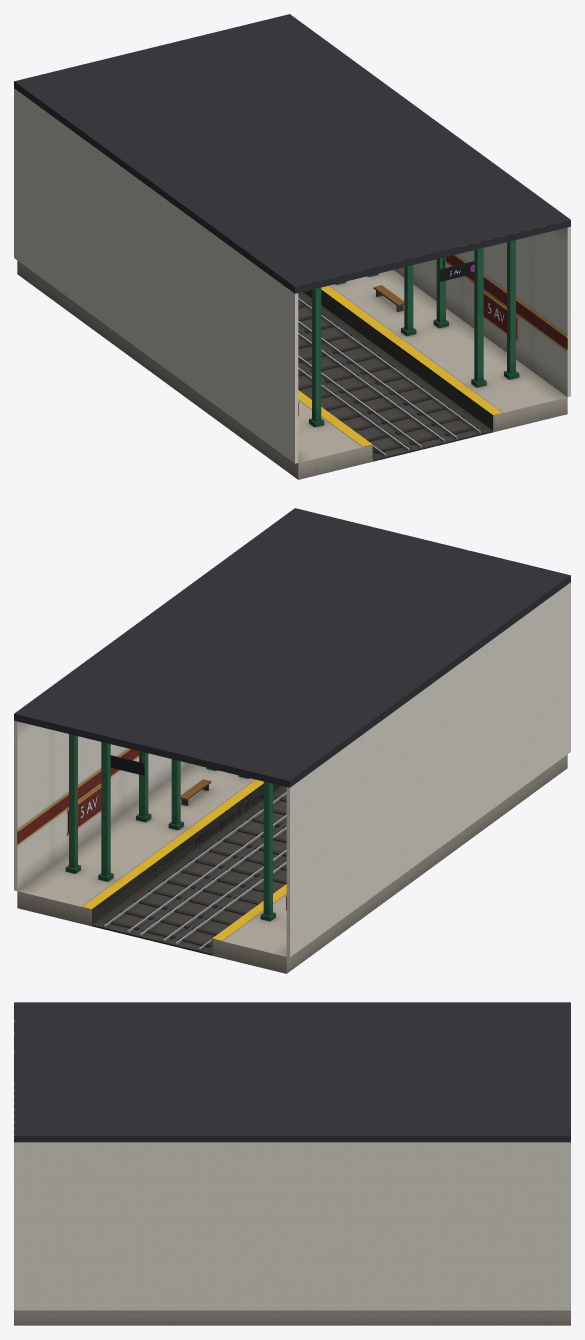
Rendered from metro_estacion.glb.
3 views of the same model, one above another, from view 1: azimuth 30°, elevation 25°; view 2: azimuth 150°, elevation 25°; view 3: azimuth 270°, elevation 25° (orthographic).
Visible parts, largest first — view 1: metro_estacion; view 2: metro_estacion; view 3: metro_estacion.
Part boxes in pixels (left/top/right/bottom): metro_estacion: left=14, top=14, right=570, bottom=479; metro_estacion: left=14, top=508, right=570, bottom=973; metro_estacion: left=14, top=1002, right=570, bottom=1325.
Size of the model in its own units: 17 by 11.4 by 30.
1 material, 1 textured.
